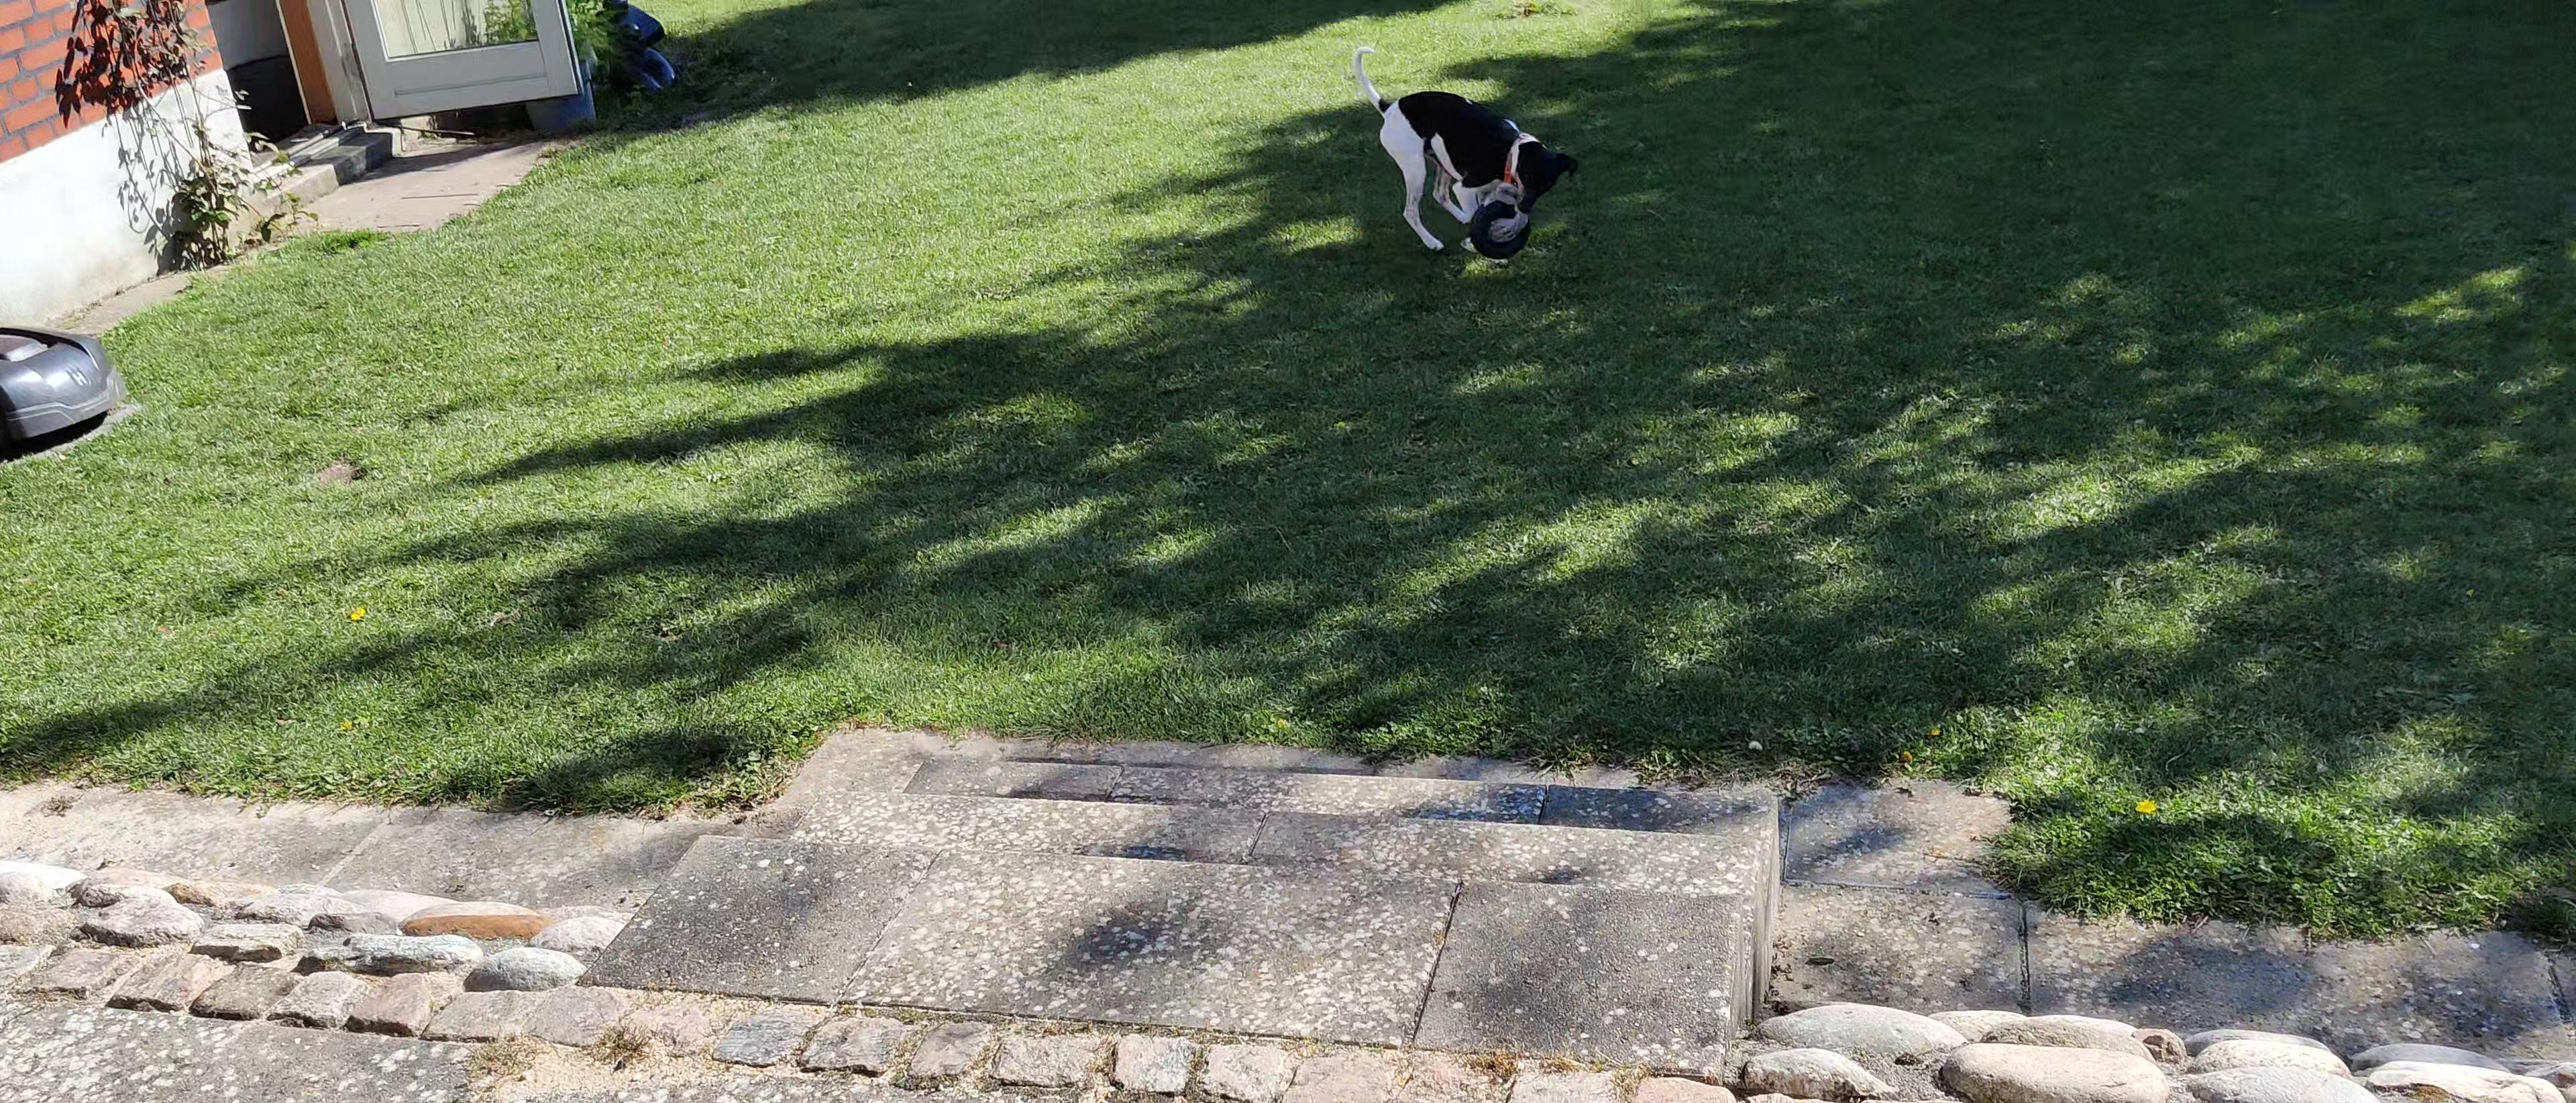Dog: (1349, 44, 1582, 253)
